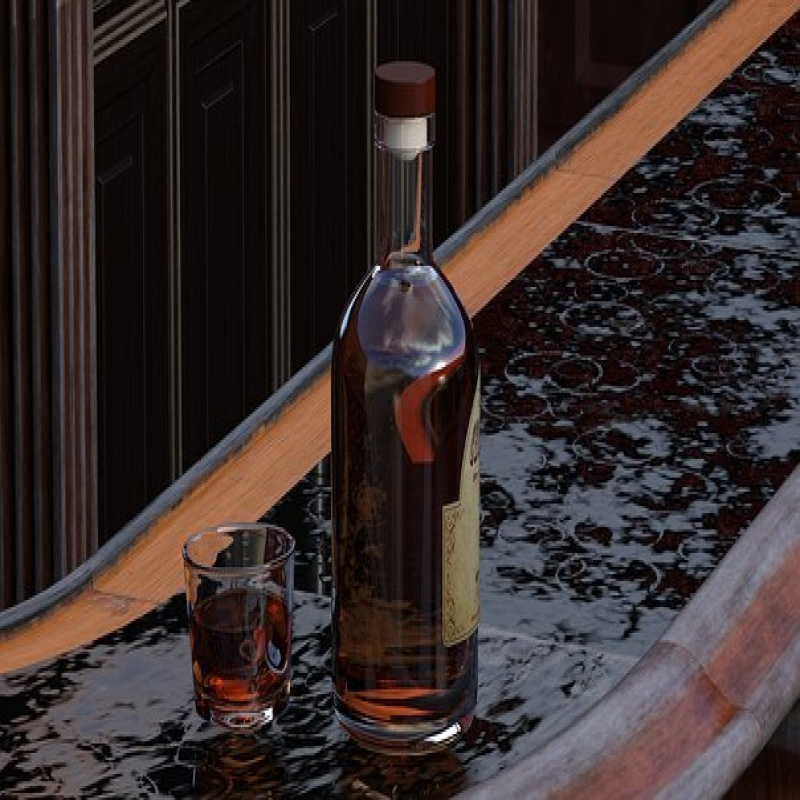whiskey: (178, 525, 298, 725)
